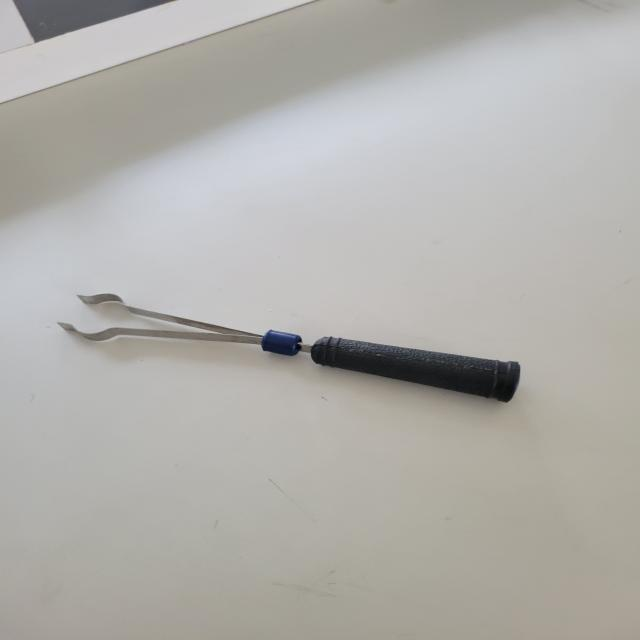TestTube_Holder: (24, 260, 538, 444)
